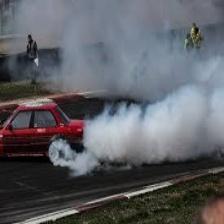smoke: (74, 95, 219, 166)
